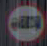Heavy Vehicles: (5, 0, 45, 45)
